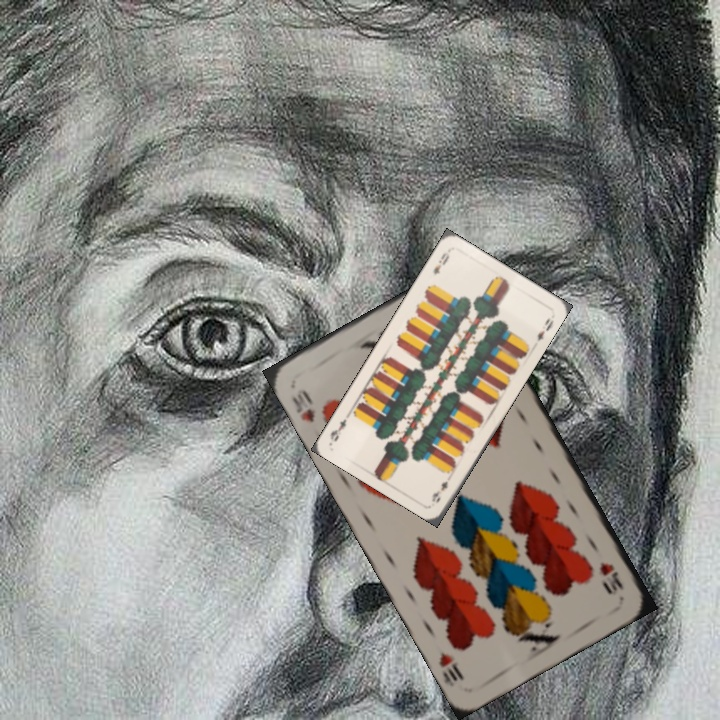E9: (429, 248, 452, 277), (428, 477, 451, 505)
H10: (595, 558, 626, 598), (288, 385, 318, 425)
